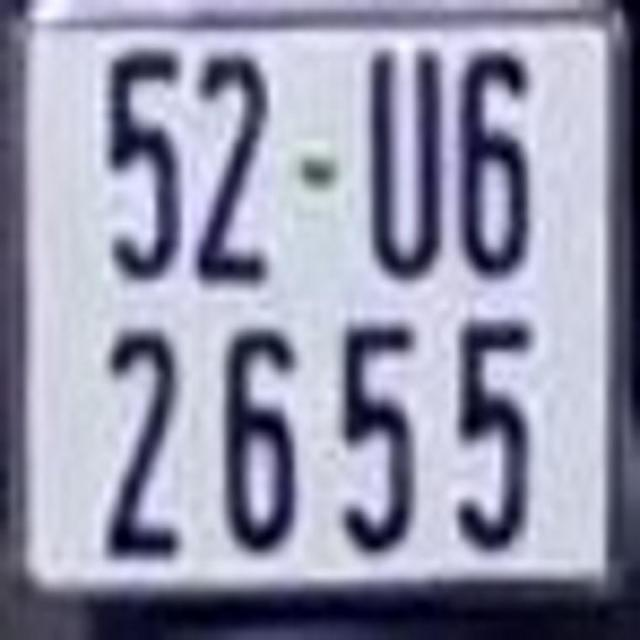2: (102, 325, 182, 560), (194, 44, 270, 287)
5: (452, 309, 536, 554), (103, 40, 184, 286), (339, 313, 416, 553)
6: (455, 39, 533, 280), (215, 324, 297, 550)
U: (358, 38, 445, 280)
